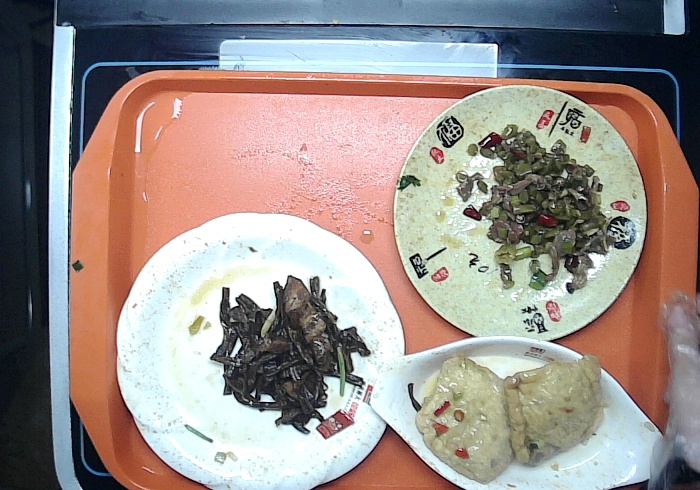NLDX-Bai_Zhe_Yuan_Pan: (111, 209, 407, 490)
NLDX-Fu_Zi_Yuan_Pan: (391, 82, 650, 346)
NLDX-Yu_Pan: (368, 330, 664, 490)
